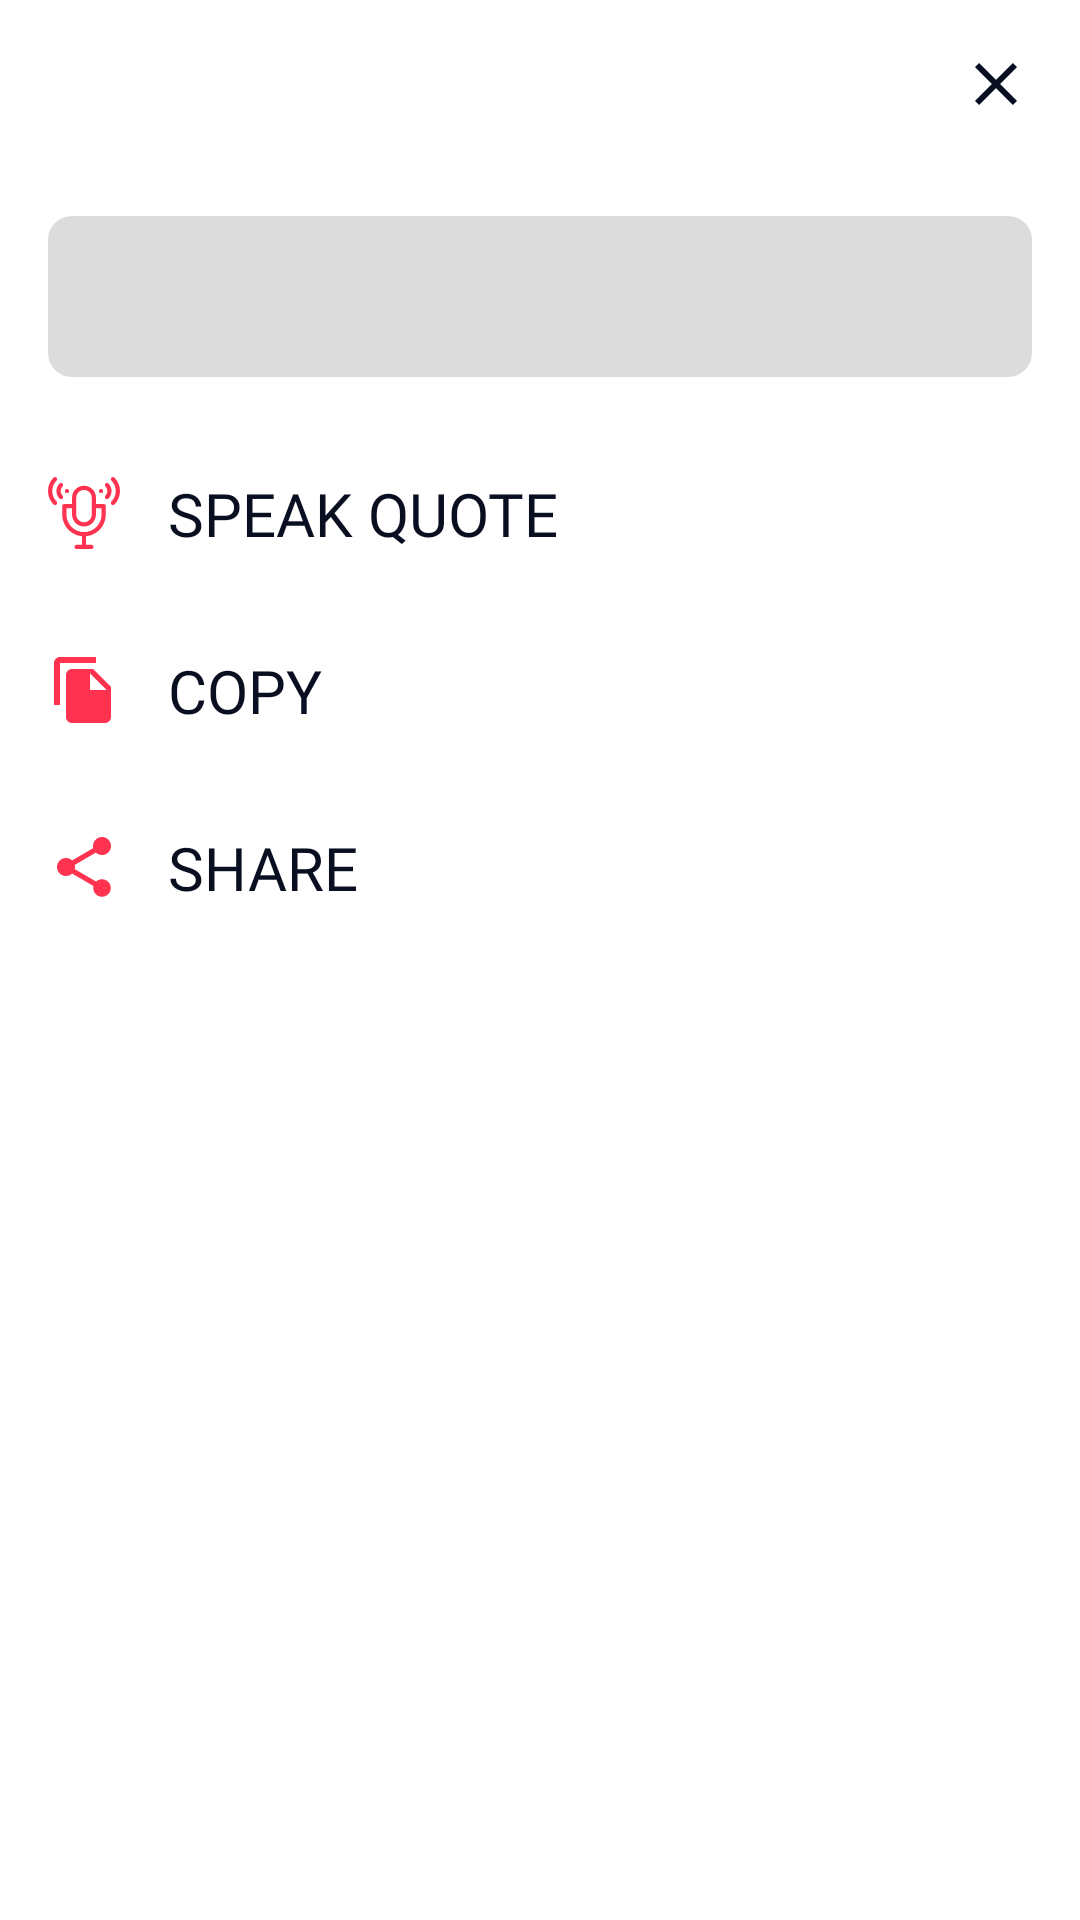

Icons on this 1080×1920 Android screen, each with its box as (x1, y1, x2, y2):
close: (975, 63, 1017, 105)
